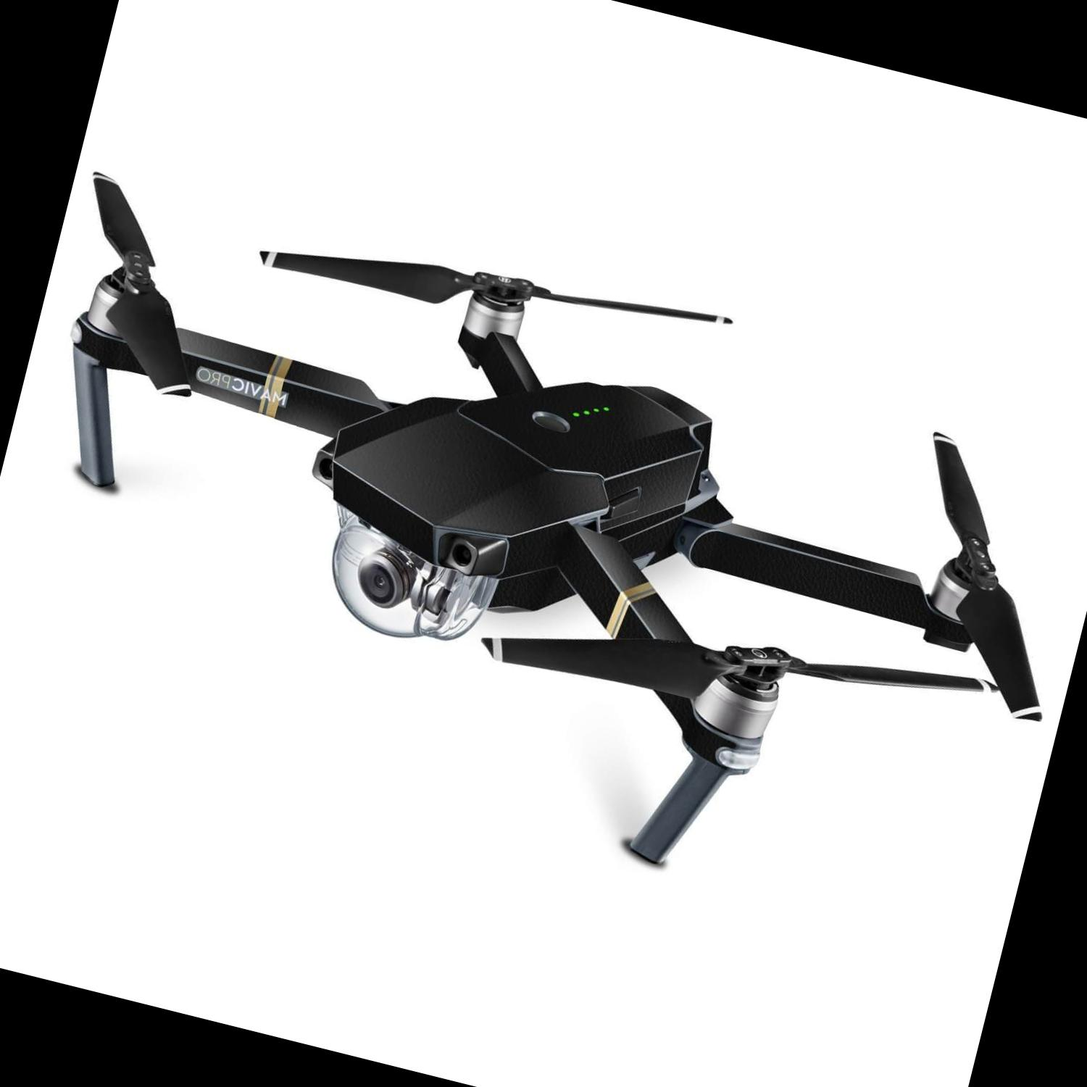drone: (0, 119, 1087, 909)
